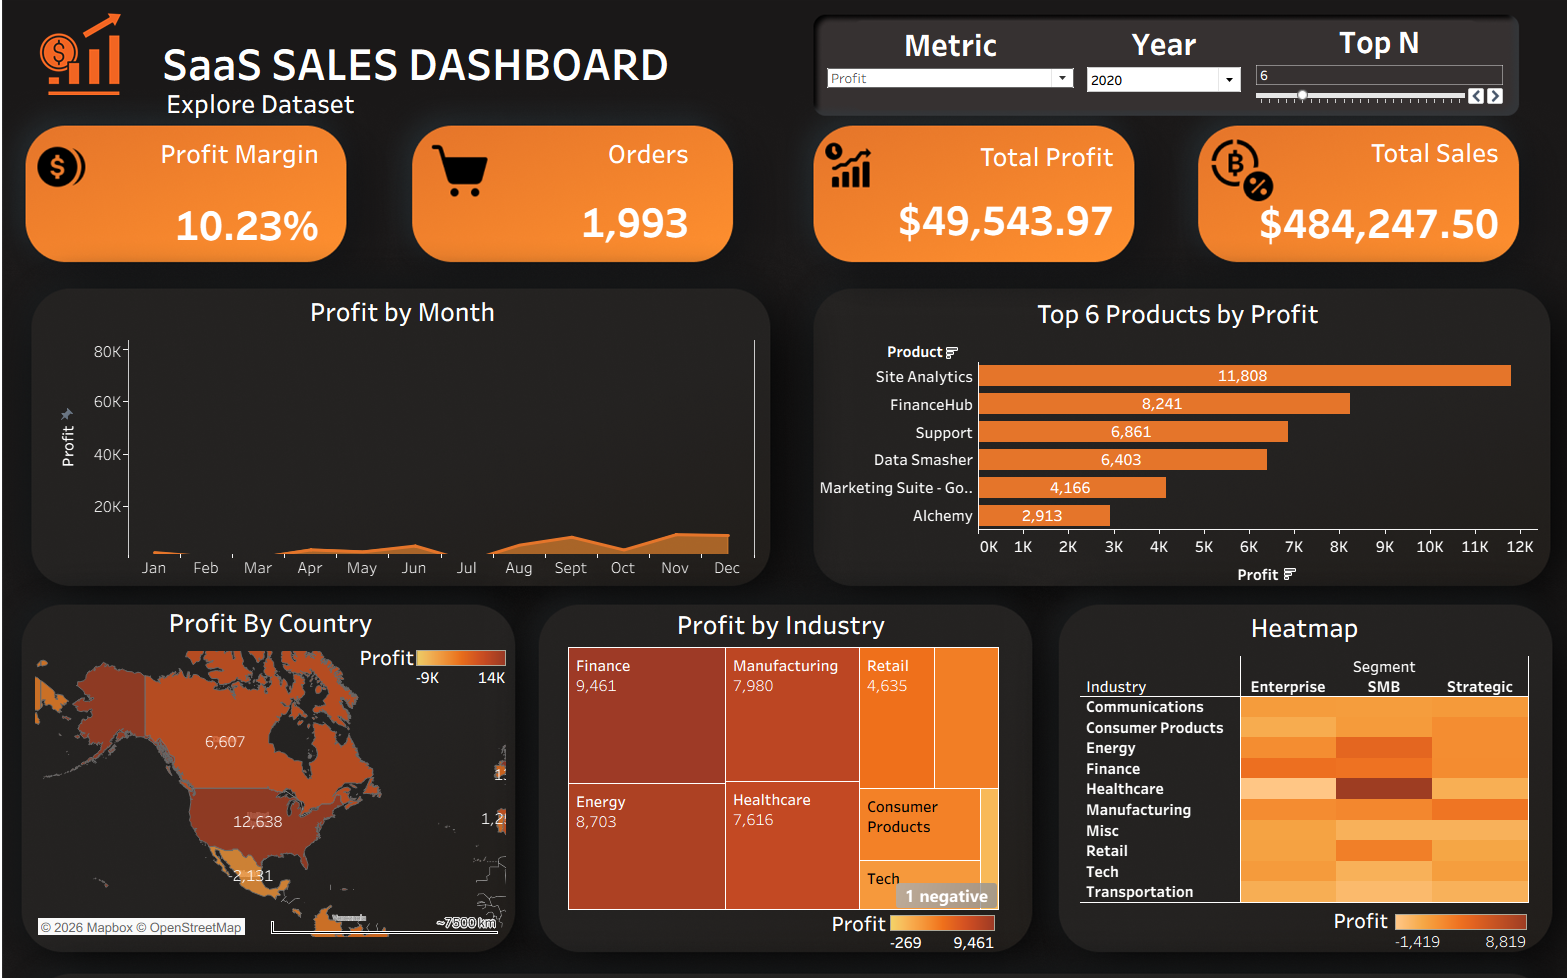

This screenshot's page, from the dashboard's own definition file:
{"tool":"tableau","page":{"name":"Sales Dashboard","canvas":[1600,1300],"ordinal":0},"visuals":[{"type":"image","param":"Image/BG2.png","box":[8,8,1584,1284]},{"type":"text","box":[172,20,616,111]},{"type":"image","param":"Image/SALESDBICON2.png","box":[52,26,82,110]},{"type":"parameter","param":"[Parameters].[Parameter 2]","box":[1262,29,261,123]},{"type":"filter","title":"Monthly Trend","param":"[federated.0b58bk8146kw1t11h879905e187f].[yr:Order Date:ok]","box":[1093,31,168,102]},{"type":"parameter","param":"[Parameters].[Parameter 1]","box":[833,32,261,123]},{"type":"worksheet","title":"Sheet 12","mark":"Automatic","box":[175,95,547,62]},{"type":"worksheet","title":"Total Sales","mark":"Automatic","box":[1131,140,389,141]},{"type":"worksheet","title":"Profit Margin","mark":"Automatic","box":[9,141,331,143]},{"type":"worksheet","title":"Orders","mark":"Automatic","box":[321,141,389,136]},{"type":"worksheet","title":"Total Profit","mark":"Automatic","box":[747,144,388,127]},{"type":"worksheet","title":"Monthly Trend","mark":"Area","rows":["Calculation_2215848012386312","Calculation_2215848012386312"],"cols":["Order Date"],"box":[59,299,713,298]},{"type":"worksheet","title":"Top Products","mark":"Automatic","rows":["Product"],"cols":["Calculation_2215848012386312"],"box":[827,301,728,308]},{"type":"text","box":[541,612,506,51]},{"type":"worksheet","title":"Map","mark":"Multipolygon","box":[48,614,471,336]},{"type":"worksheet","title":"Heatmap","mark":"Automatic","rows":["Industry"],"cols":["Segment"],"box":[1089,615,457,305]},{"type":"worksheet","title":"TreeMap","mark":"Automatic","box":[577,641,438,293]},{"type":"text","box":[369,653,366,35]},{"type":"legend","title":"Map","param":"[federated.0b58bk8146kw1t11h879905e187f].[usr:Calculation_2215848012386312:qk]","box":[425,659,98,59]},{"type":"text","box":[841,919,366,35]},{"type":"legend","title":"Heatmap","param":"[federated.0b58bk8146kw1t11h879905e187f].[usr:Calculation_2215848012386312:qk]","box":[1404,923,140,73]},{"type":"legend","title":"TreeMap","param":"[federated.0b58bk8146kw1t11h879905e187f].[usr:Calculation_2215848012386312:qk]","box":[899,924,113,57]},{"type":"worksheet","title":"Industry Wise Sales","mark":"Automatic","rows":["Industry"],"cols":["Calculation_2215848012386312"],"box":[55,997,1492,283]}]}

Visuals, with their boxes on the page's 1600x1300 design canvas (x1, y1, x2, y2). These are canvas units, not pixel positions in the 1567x978 screenshot, which may show the page scaled, cropped or inside an application window:
image: [x1=8, y1=8, x2=1592, y2=1292]
text: [x1=172, y1=20, x2=788, y2=131]
image: [x1=52, y1=26, x2=134, y2=136]
parameter: [x1=1262, y1=29, x2=1523, y2=152]
"Monthly Trend" filter: [x1=1093, y1=31, x2=1261, y2=133]
parameter: [x1=833, y1=32, x2=1094, y2=155]
"Sheet 12" worksheet: [x1=175, y1=95, x2=722, y2=157]
"Total Sales" worksheet: [x1=1131, y1=140, x2=1520, y2=281]
"Profit Margin" worksheet: [x1=9, y1=141, x2=340, y2=284]
"Orders" worksheet: [x1=321, y1=141, x2=710, y2=277]
"Total Profit" worksheet: [x1=747, y1=144, x2=1135, y2=271]
"Monthly Trend" worksheet (Area marks): [x1=59, y1=299, x2=772, y2=597]
"Top Products" worksheet: [x1=827, y1=301, x2=1555, y2=609]
text: [x1=541, y1=612, x2=1047, y2=663]
"Map" worksheet (Multipolygon marks): [x1=48, y1=614, x2=519, y2=950]
"Heatmap" worksheet: [x1=1089, y1=615, x2=1546, y2=920]
"TreeMap" worksheet: [x1=577, y1=641, x2=1015, y2=934]
text: [x1=369, y1=653, x2=735, y2=688]
"Map" legend: [x1=425, y1=659, x2=523, y2=718]
text: [x1=841, y1=919, x2=1207, y2=954]
"Heatmap" legend: [x1=1404, y1=923, x2=1544, y2=996]
"TreeMap" legend: [x1=899, y1=924, x2=1012, y2=981]
"Industry Wise Sales" worksheet: [x1=55, y1=997, x2=1547, y2=1280]
